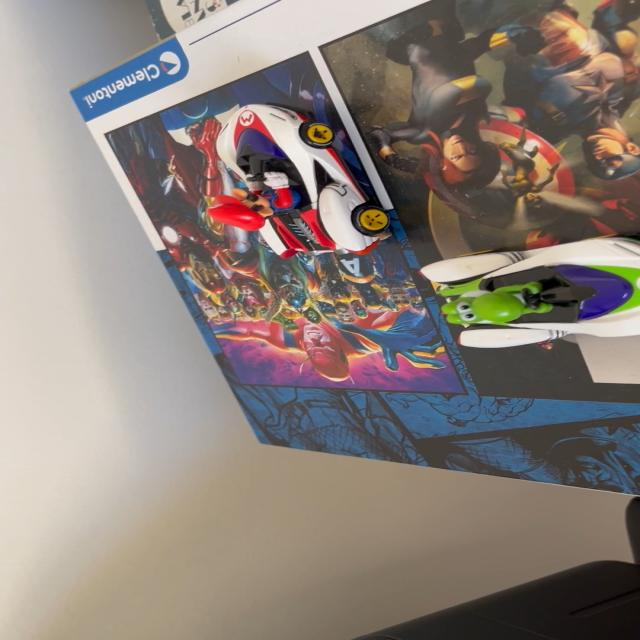mario: (195, 94, 408, 262)
yoshi: (409, 232, 640, 371)
